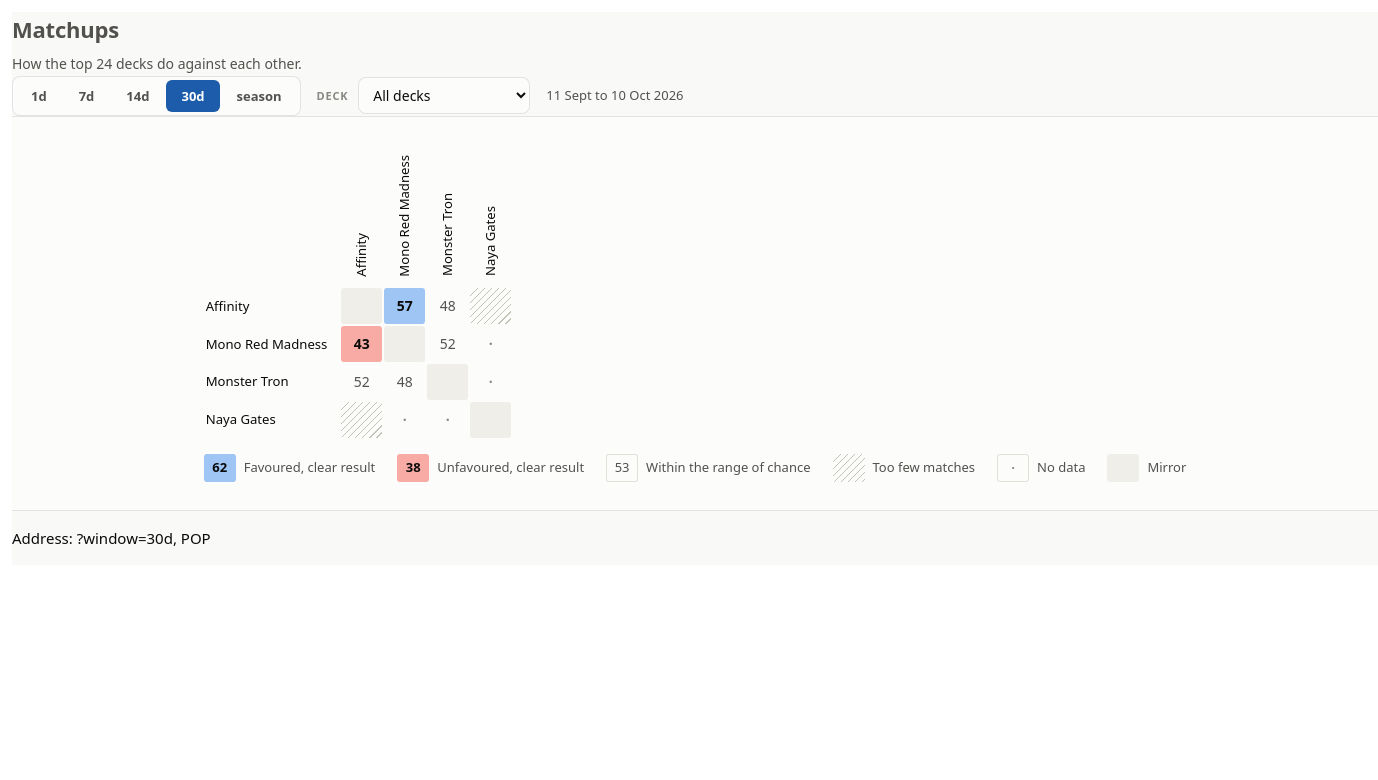
it: MatchupsPage › waits for the window to load before it reveals a deck chosen during the load
Expected: the text "11 Sept to 10 Oct 2026" is shown, [546,85,684,106]
Click the button "7d" at (87, 96), box [64,80,109,112]
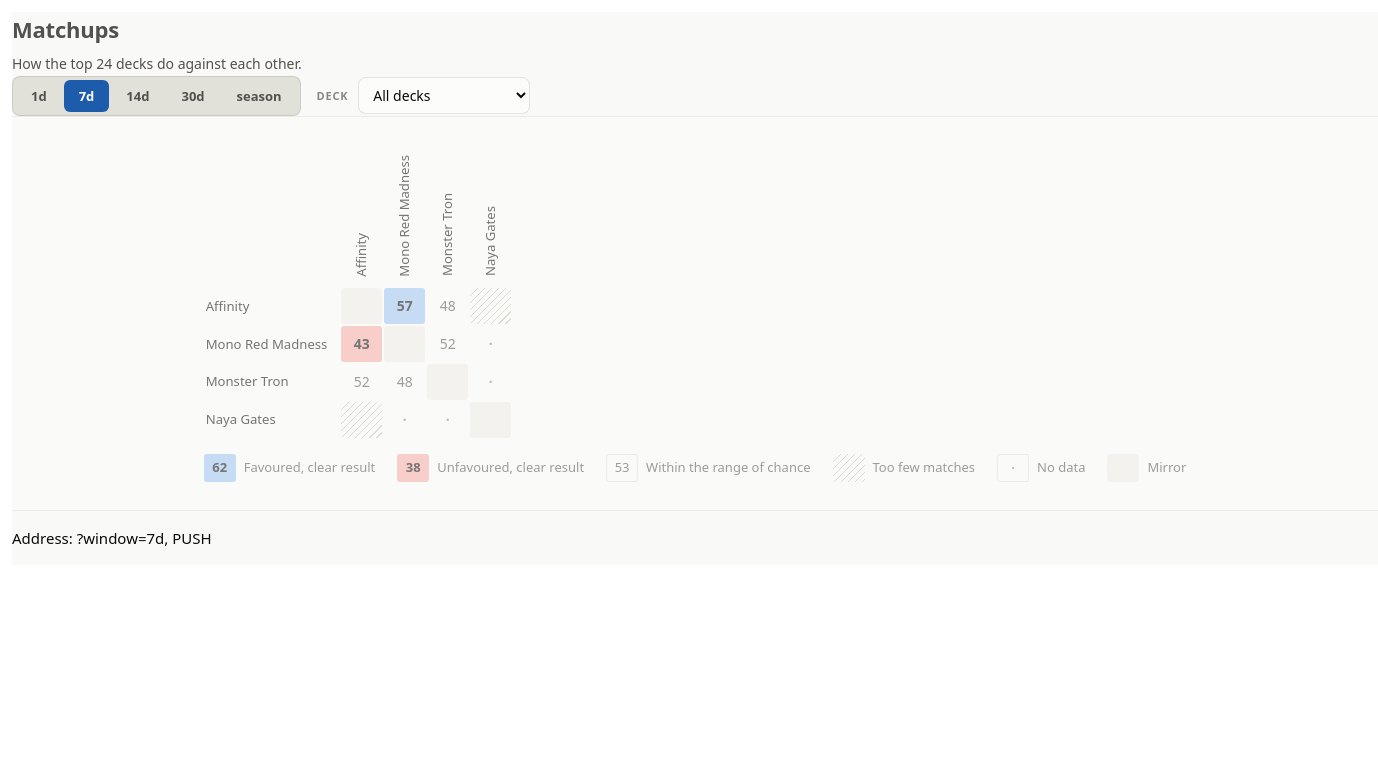
Select "Naya Gates" in the dropdown labelled "Deck" at (444, 96), box [358,77,530,114]
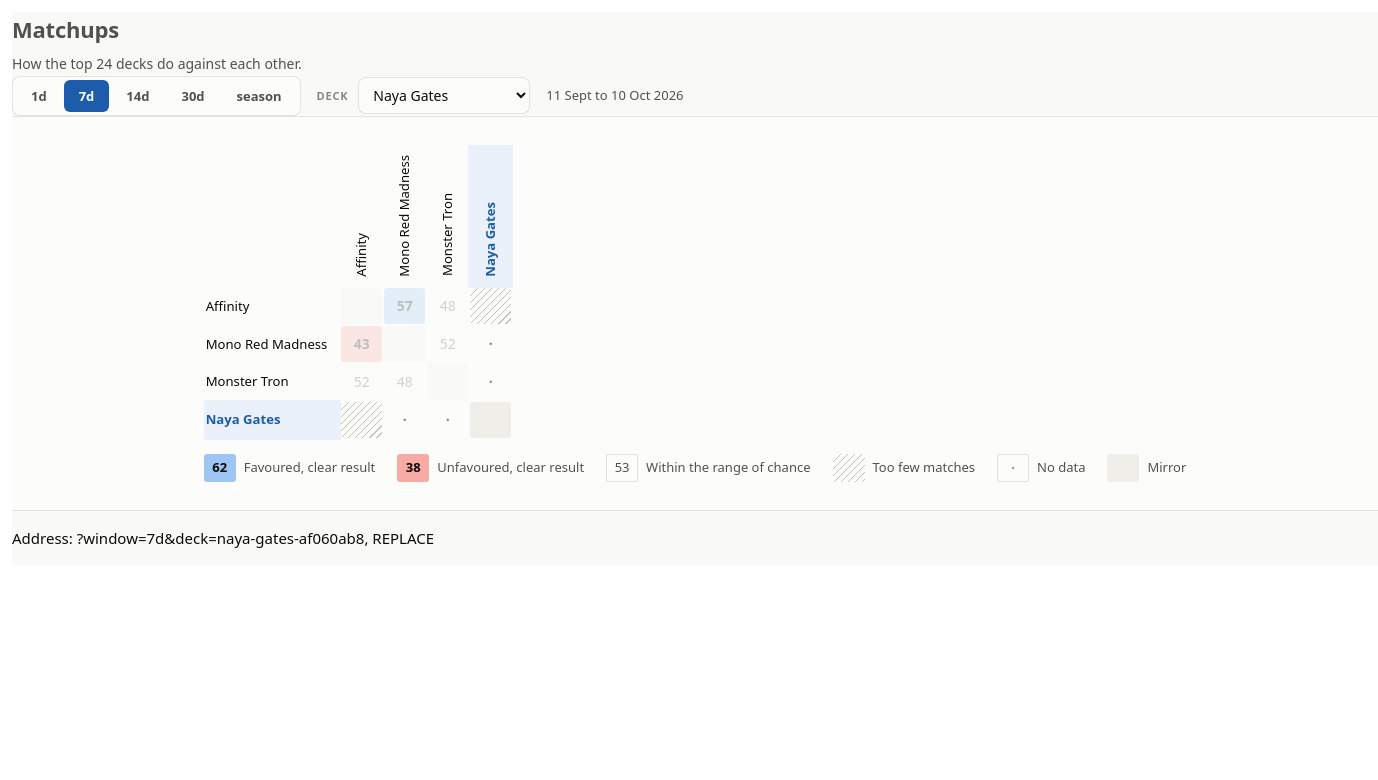
Result: the table named "7d window" is shown at [204,145,513,440]
